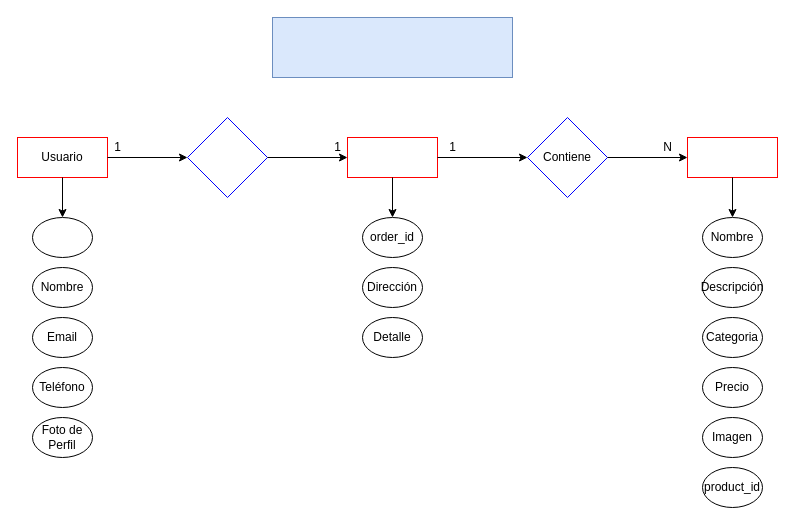
This 795x525 diagram has some shape labels left out. The box of each missing label's shape, as (x1, y1, x2, y2) in pixels:
Carrito: (346, 136, 438, 178)
E-Mercado: (272, 16, 512, 78)
Productos: (686, 136, 778, 178)
Tiene: (186, 116, 268, 198)
user_id: (32, 216, 92, 258)
